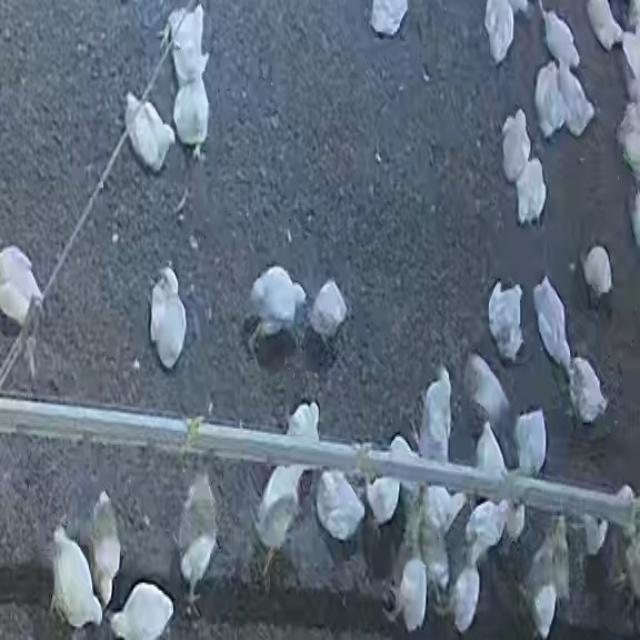chicken: (175, 468, 220, 598), (49, 528, 106, 629), (253, 449, 302, 563), (142, 264, 193, 369), (250, 265, 308, 343), (124, 93, 179, 171), (534, 278, 578, 374), (85, 488, 121, 605), (107, 581, 175, 640), (168, 66, 210, 161), (463, 357, 513, 433), (315, 462, 362, 540), (524, 531, 558, 635), (555, 54, 594, 137), (508, 408, 549, 486), (443, 545, 480, 629), (386, 557, 428, 630), (567, 356, 610, 426), (460, 498, 506, 561), (413, 479, 463, 534), (479, 422, 513, 502), (539, 6, 584, 66), (492, 281, 525, 362), (281, 403, 321, 469), (421, 371, 453, 446), (513, 154, 548, 222), (503, 103, 532, 183), (534, 63, 567, 132), (308, 278, 345, 339), (422, 521, 453, 589), (487, 0, 516, 60), (582, 248, 616, 299)
